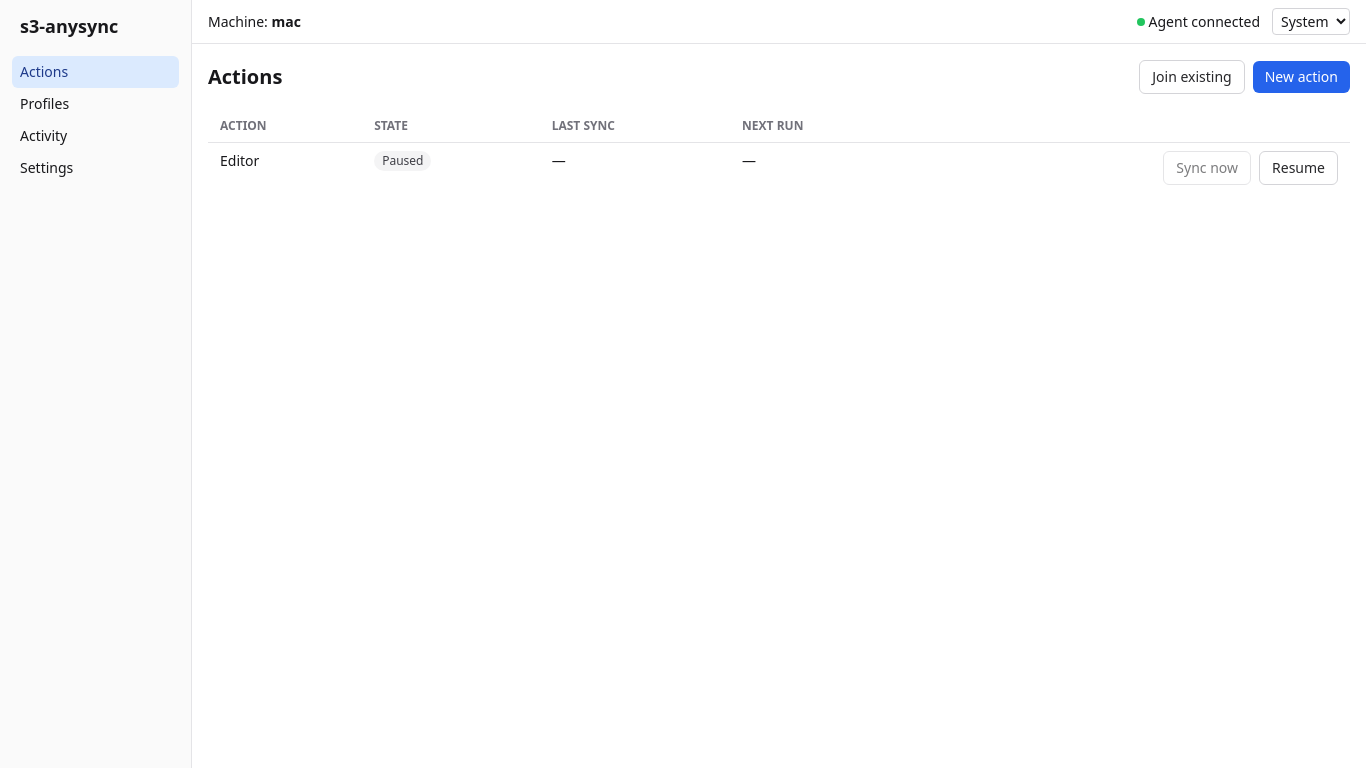
Test: no conflicts or deletes banner without any
Step 1. Click the button "Editor" → click(240, 161), box 220,151 -> 259,171
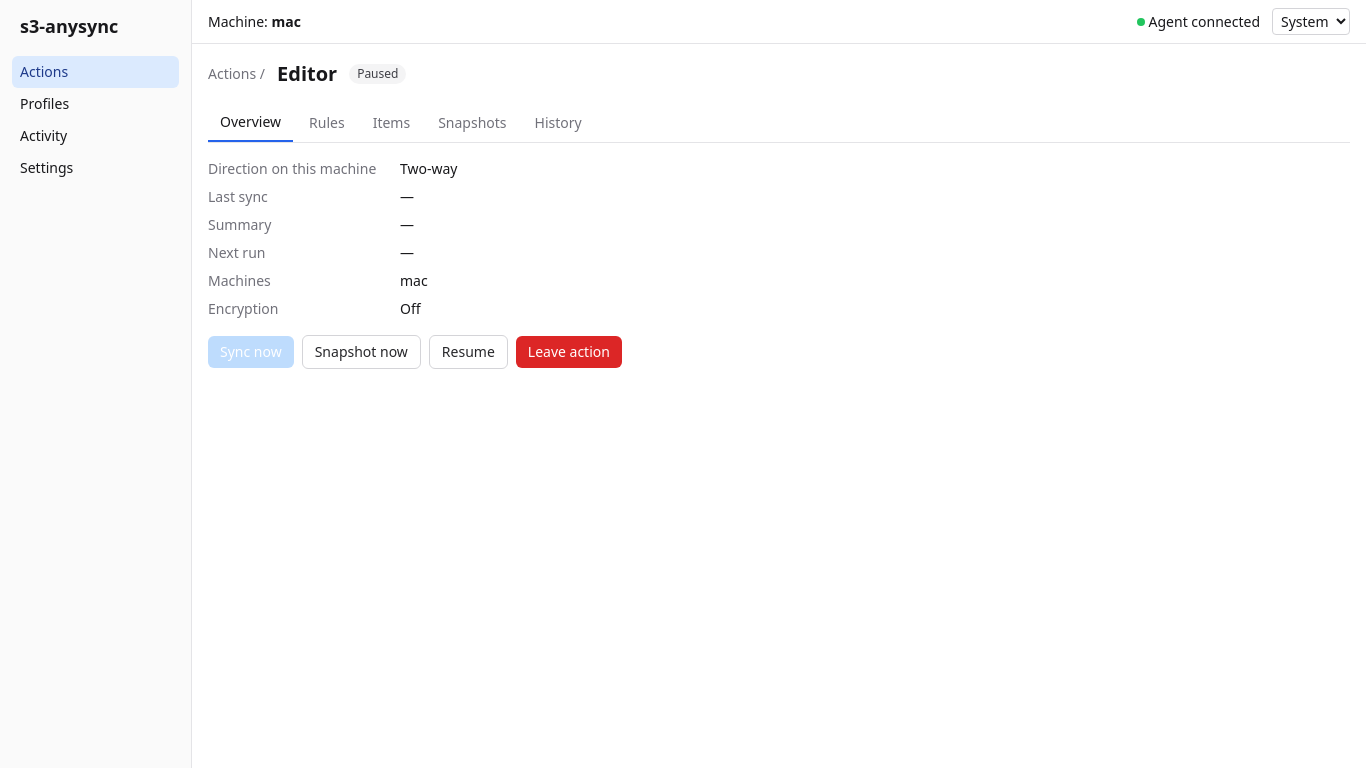
Result: the button "Leave action" is shown at 516,336 -> 622,368
